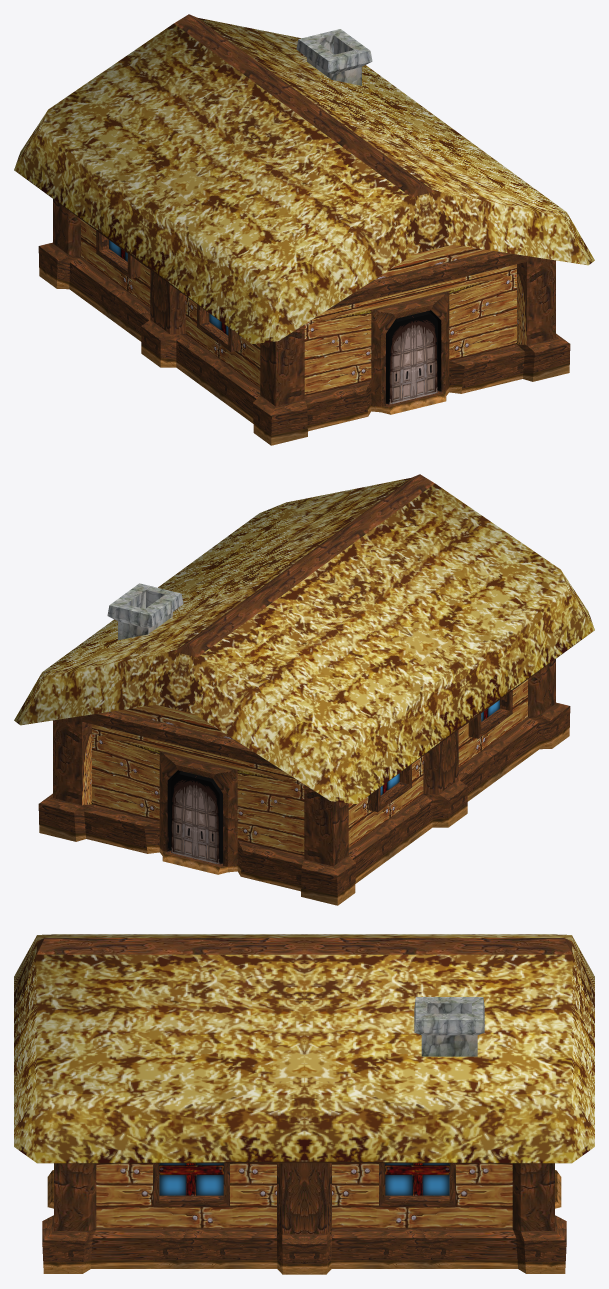
File: houseSmall.FBX
3 renders of one model, top to bottom at view 1: azimuth 30°, elevation 25°; view 2: azimuth 150°, elevation 25°; view 3: azimuth 270°, elevation 25°, orthographic. The views are drawn at different scales.
Parts seen in each view (by area): view 1: Object002, hall_l001, chimney002; view 2: Object002, hall_l001, chimney002; view 3: Object002, hall_l001, chimney002.
Part boxes in pixels (bbox=[...]): Object002: bbox=[14, 14, 594, 343]; hall_l001: bbox=[38, 199, 570, 445]; chimney002: bbox=[296, 29, 372, 85]; Object002: bbox=[14, 474, 594, 803]; hall_l001: bbox=[38, 659, 570, 905]; chimney002: bbox=[107, 583, 183, 640]; Object002: bbox=[14, 934, 594, 1163]; hall_l001: bbox=[42, 1163, 566, 1274]; chimney002: bbox=[414, 997, 484, 1056].
Size of the model in its own units: 177 by 111 by 231.
